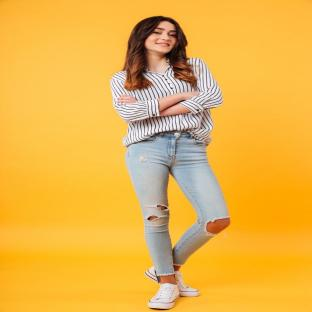Human: (111, 16, 230, 309)
